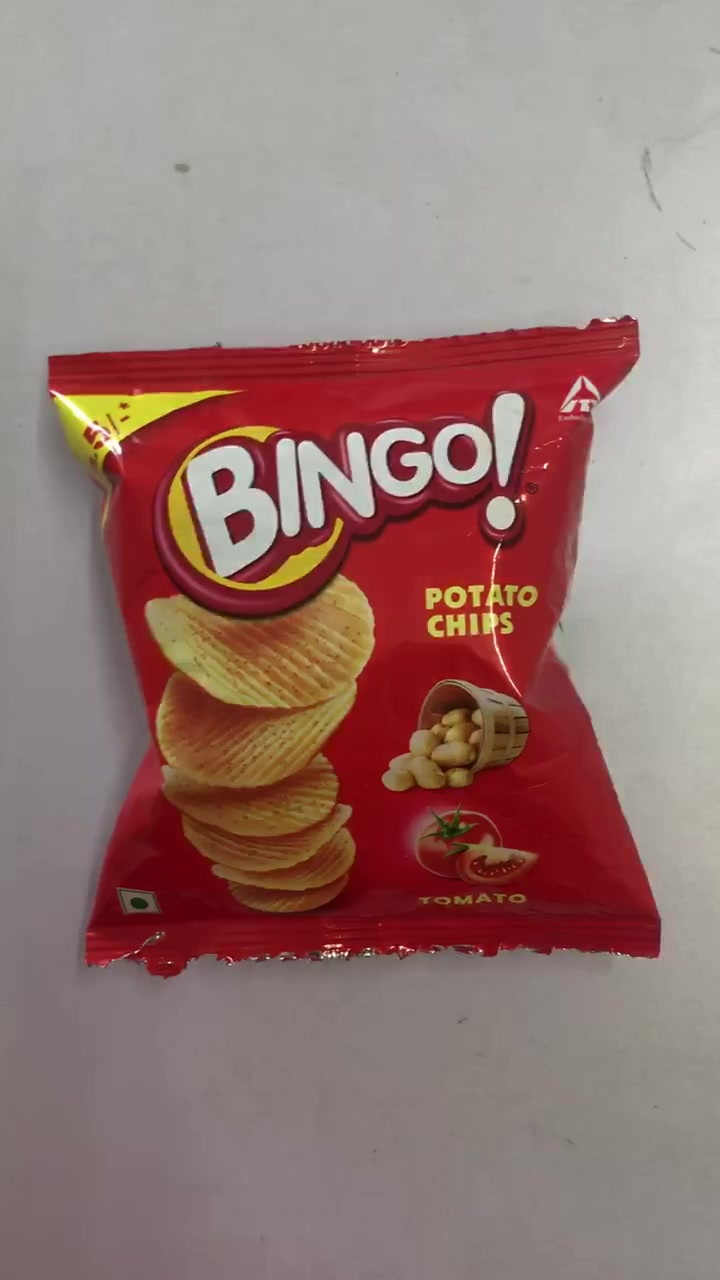Bingo: (53, 352, 653, 955)
